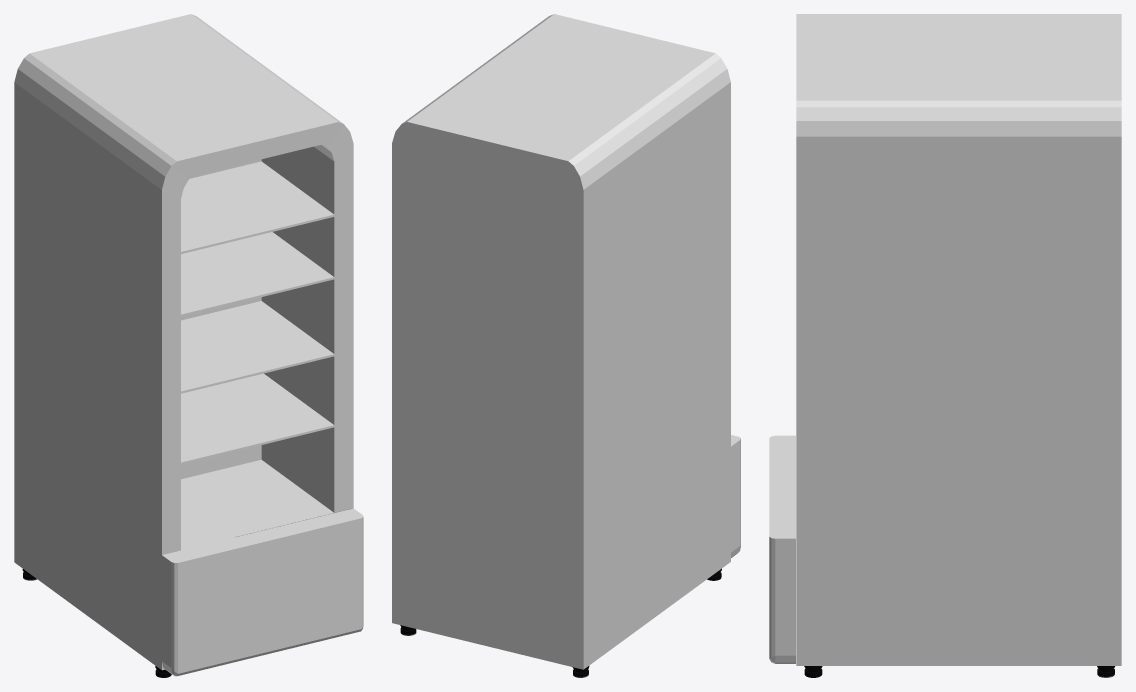
File: Fridge.fbx
The picture shows the model from 3 angles, left to right: view 1: azimuth 30°, elevation 25°; view 2: azimuth 150°, elevation 25°; view 3: azimuth 270°, elevation 25°; orthographic projection. The views are drawn at different scales.
Visible parts, largest first — view 1: Fridge_Baked; view 2: Fridge_Baked; view 3: Fridge_Baked.
Part boxes in pixels (box(x1,y1,x2,y2)): Fridge_Baked: box(14, 14, 363, 677); Fridge_Baked: box(392, 14, 740, 677); Fridge_Baked: box(769, 14, 1121, 677).
Bounding box in the file's own units: 60.03 × 155 × 86.59.
